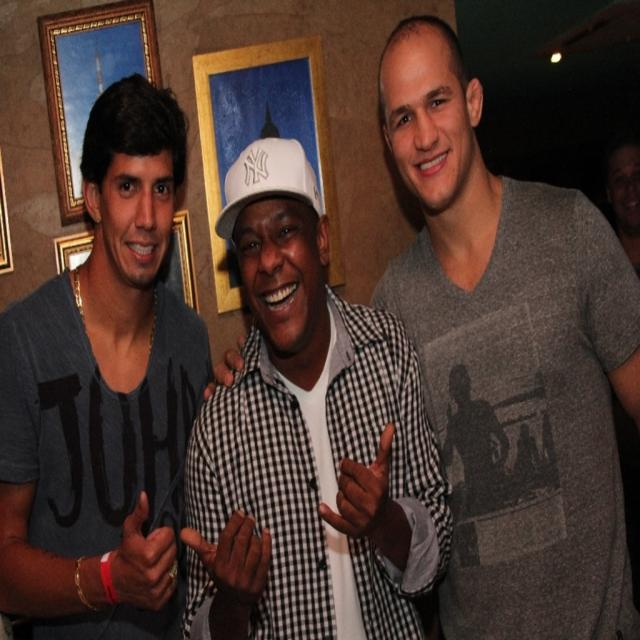Hat: (214, 134, 324, 246)
